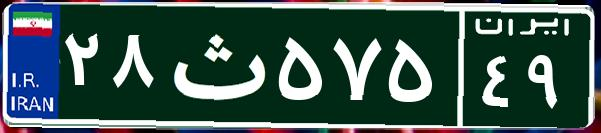2: (57, 26, 110, 107)
4: (475, 38, 525, 113)
5: (385, 28, 445, 110), (273, 28, 330, 110)
7: (330, 28, 385, 110)
8: (110, 28, 158, 105)
9: (525, 38, 570, 115)
ث: (158, 15, 273, 115)
